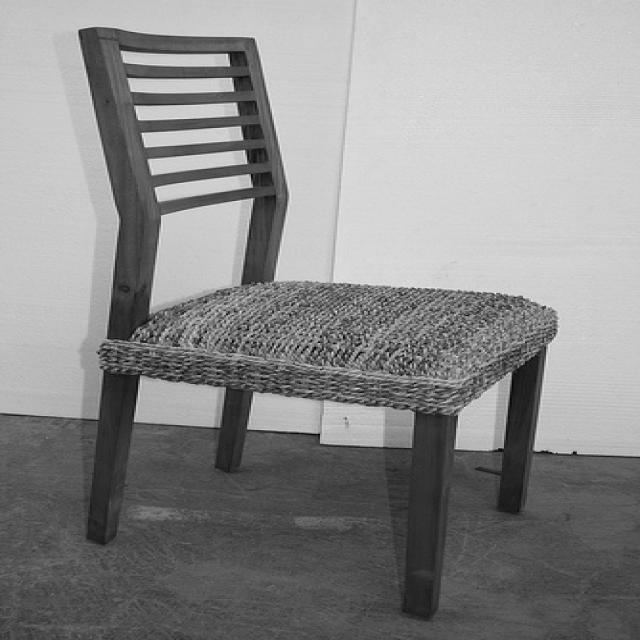chair: (73, 23, 564, 620)
